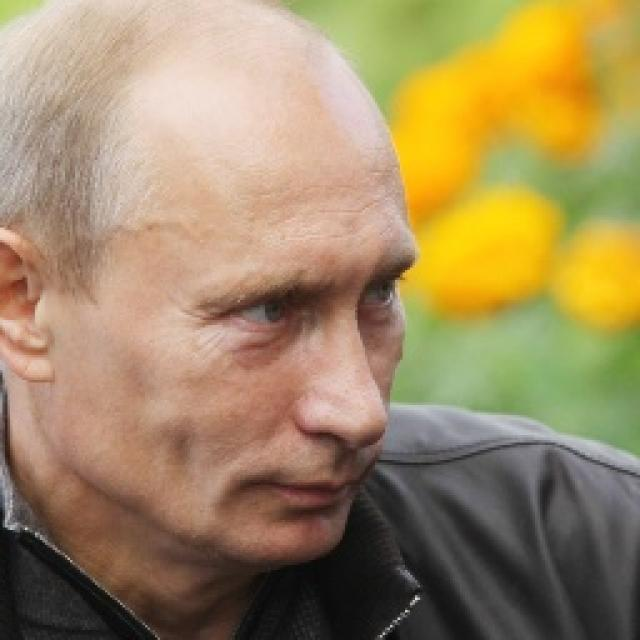no-glasses: (197, 248, 419, 358)
